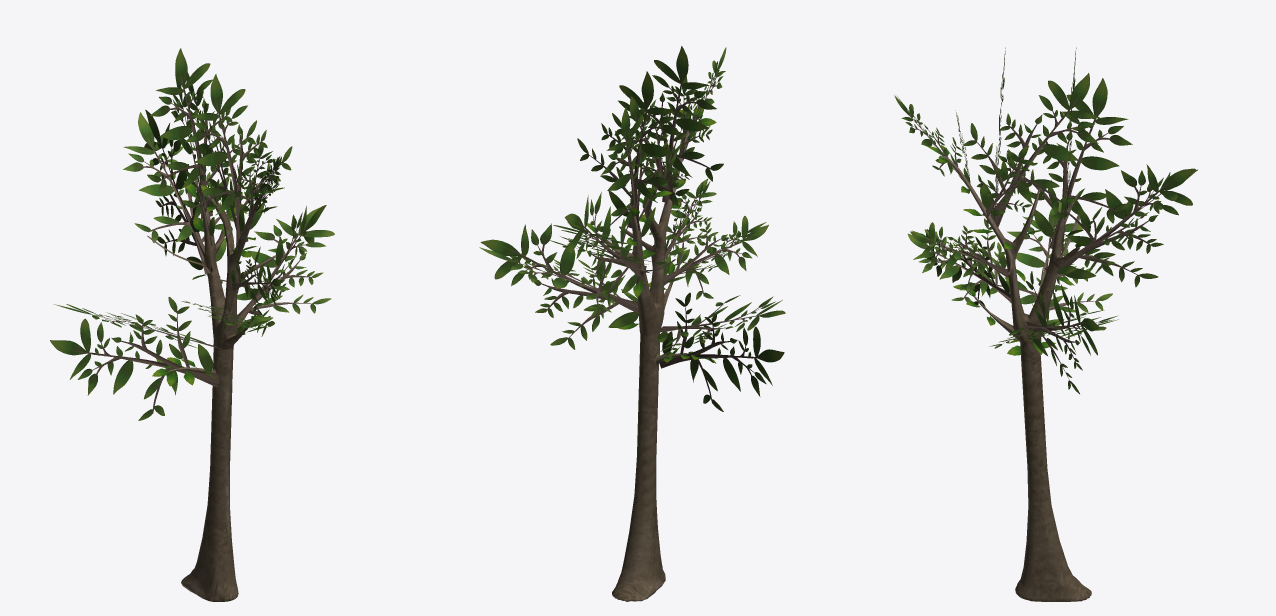
File: Bug_Enviro_Tree.fbx
3 views of the same model, side by side, from view 1: azimuth 30°, elevation 25°; view 2: azimuth 150°, elevation 25°; view 3: azimuth 270°, elevation 25° (orthographic). The views are drawn at different scales.
Parts seen in each view (by area): view 1: pPlane69; view 2: pPlane69; view 3: pPlane69.
Part boxes in pixels (x1=…): pPlane69: x1=50, y1=48, x2=334, y2=601; pPlane69: x1=479, y1=46, x2=785, y2=601; pPlane69: x1=894, y1=47, x2=1197, y2=601.
Size of the model in its own units: 14.25 by 20.87 by 13.14.
Materials: 3 (3 with a texture image).
